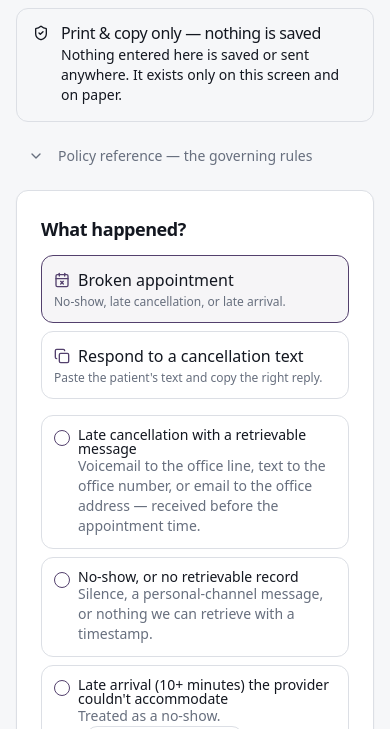
Scenario: decision-first workspace › enough notice short-circuits: on-time result, no history asked
The image size is (390, 729).
What coordinates should you click on to do the following:
click the 1st radio button named "Late cancellation with a retrievable message"
I would click on:
 (62, 438)
Its box is [54,430,70,446].
(page scrolled)
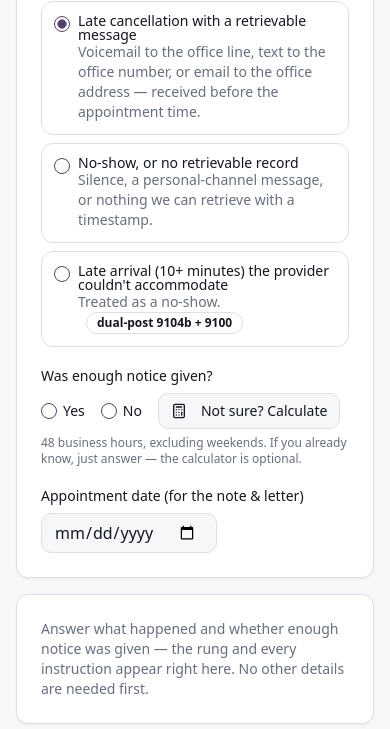
What coordinates should you click on to do the following:
click the radio button next to "Yes"
I would click on:
 (49, 411)
Its box is [41,403,57,419].
(page scrolled)
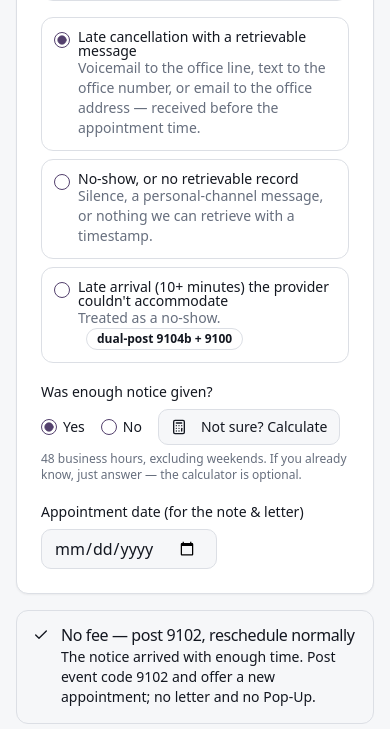
Check: the heading "No fee — post 9102, reschedule normally" is shown, box [33,627,357,643]
